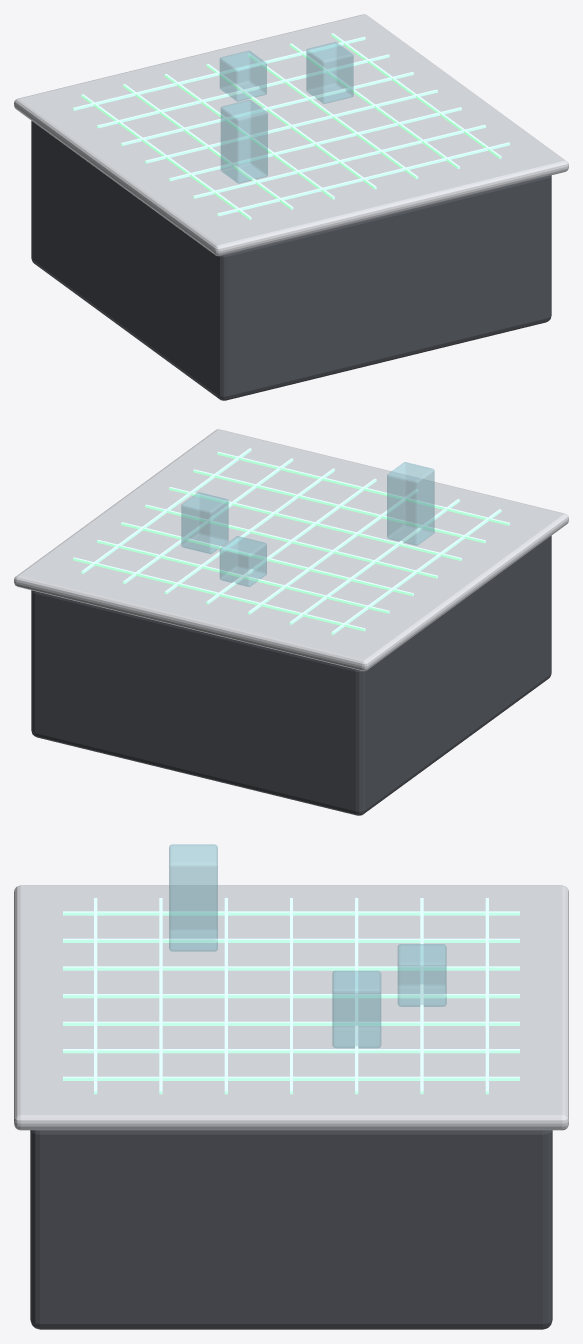
File: holotable_square_grid.glb
The picture shows the model from 3 angles, top to bottom: view 1: azimuth 30°, elevation 25°; view 2: azimuth 150°, elevation 25°; view 3: azimuth 270°, elevation 25°; orthographic projection. The views are drawn at different scales.
Visible parts, largest first — view 1: GD_holotable_square_grid__m0, GD_holotable_square_grid__m1, GD_holotable_square_grid__m2, GD_holotable_square_grid__m3; view 2: GD_holotable_square_grid__m0, GD_holotable_square_grid__m1, GD_holotable_square_grid__m2, GD_holotable_square_grid__m3; view 3: GD_holotable_square_grid__m1, GD_holotable_square_grid__m0, GD_holotable_square_grid__m2, GD_holotable_square_grid__m3.
Boxes of the visible parts, bbox=[...] form: GD_holotable_square_grid__m0: bbox=[31, 121, 551, 400]; GD_holotable_square_grid__m1: bbox=[14, 14, 568, 256]; GD_holotable_square_grid__m2: bbox=[73, 33, 509, 219]; GD_holotable_square_grid__m3: bbox=[219, 42, 353, 183]; GD_holotable_square_grid__m0: bbox=[31, 536, 551, 815]; GD_holotable_square_grid__m1: bbox=[14, 429, 568, 671]; GD_holotable_square_grid__m2: bbox=[73, 448, 509, 634]; GD_holotable_square_grid__m3: bbox=[181, 462, 434, 586]; GD_holotable_square_grid__m1: bbox=[14, 885, 568, 1130]; GD_holotable_square_grid__m0: bbox=[30, 1130, 552, 1329]; GD_holotable_square_grid__m2: bbox=[63, 898, 519, 1094]; GD_holotable_square_grid__m3: bbox=[169, 844, 446, 1048].
Size of the model in its own units: 1.7 by 1.06 by 1.7.
